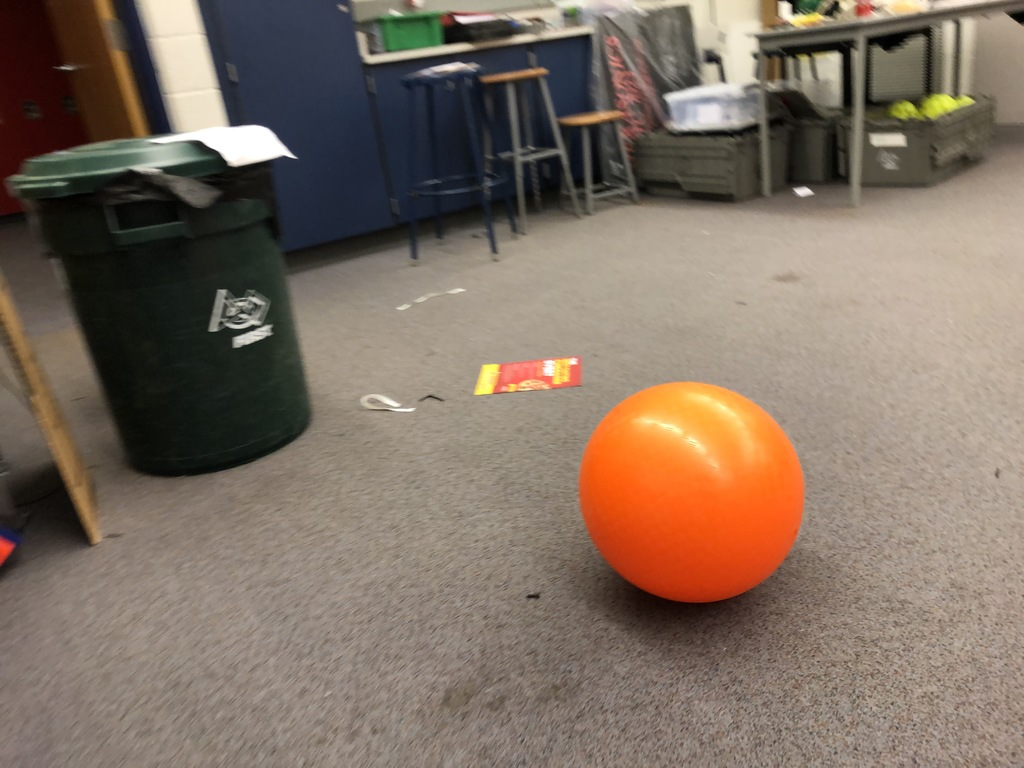cargo: (579, 374, 816, 613)
